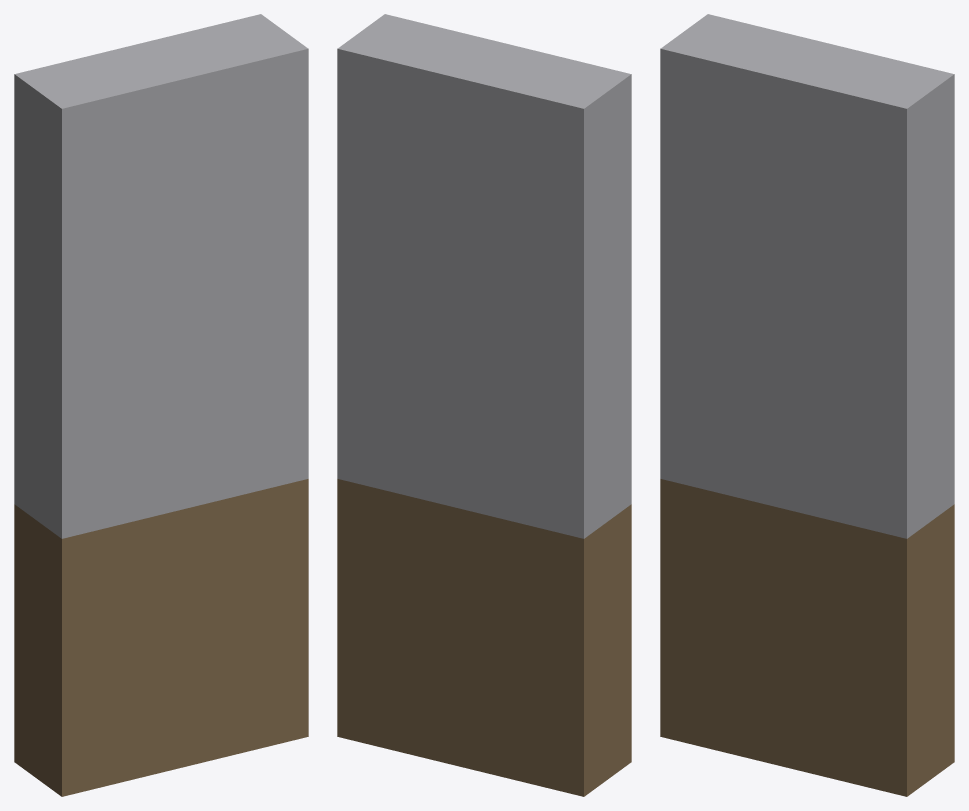
The model's file is cuchillo_desollar_01.glb.
3 views of the same model, side by side, from view 1: azimuth 30°, elevation 25°; view 2: azimuth 150°, elevation 25°; view 3: azimuth 330°, elevation 25° (orthographic).
Parts seen in each view (by area): view 1: cuchillo_desollar; view 2: cuchillo_desollar; view 3: cuchillo_desollar.
Part boxes in pixels (box(x1,y1,x2,y2)): cuchillo_desollar: box(14, 14, 308, 796); cuchillo_desollar: box(337, 14, 631, 796); cuchillo_desollar: box(660, 14, 954, 796).
Size of the model in its own units: 0.25 by 0.6667 by 0.0833.
